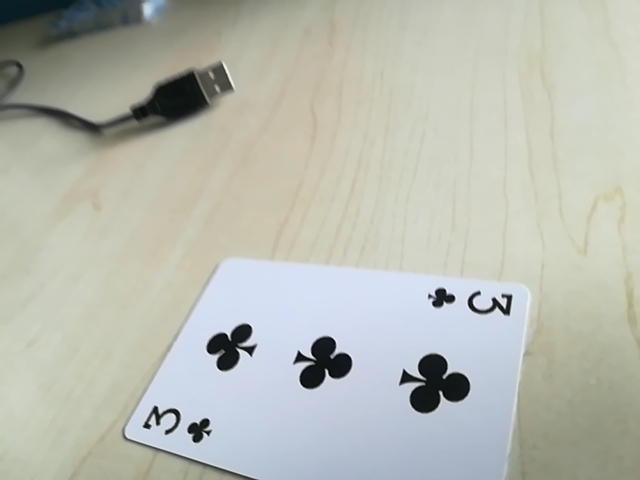mh 3: (133, 400, 222, 449), (425, 284, 519, 321)
